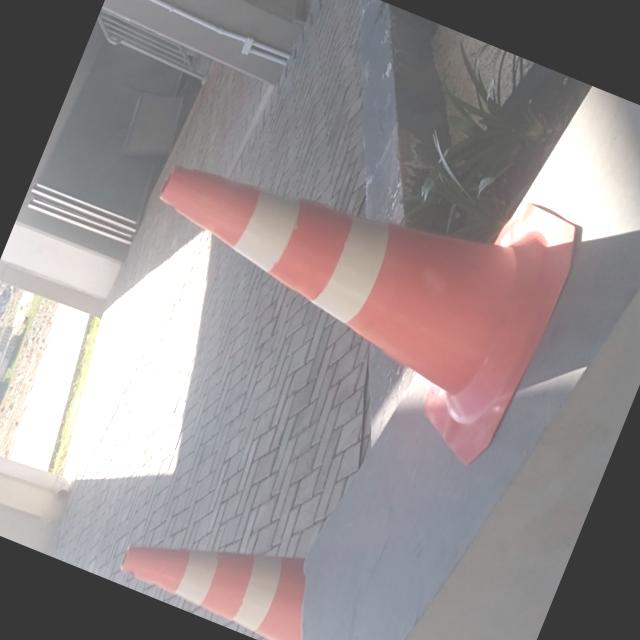cone: (91, 57, 592, 486)
